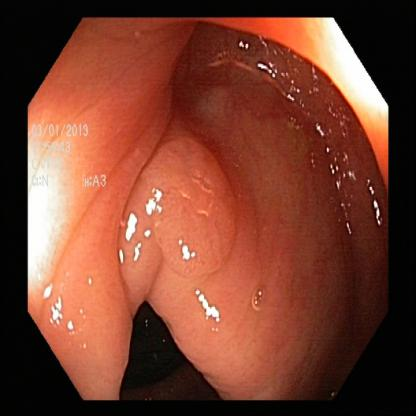Labels: (26, 120, 112, 196)
Polyps: (138, 140, 238, 275)
